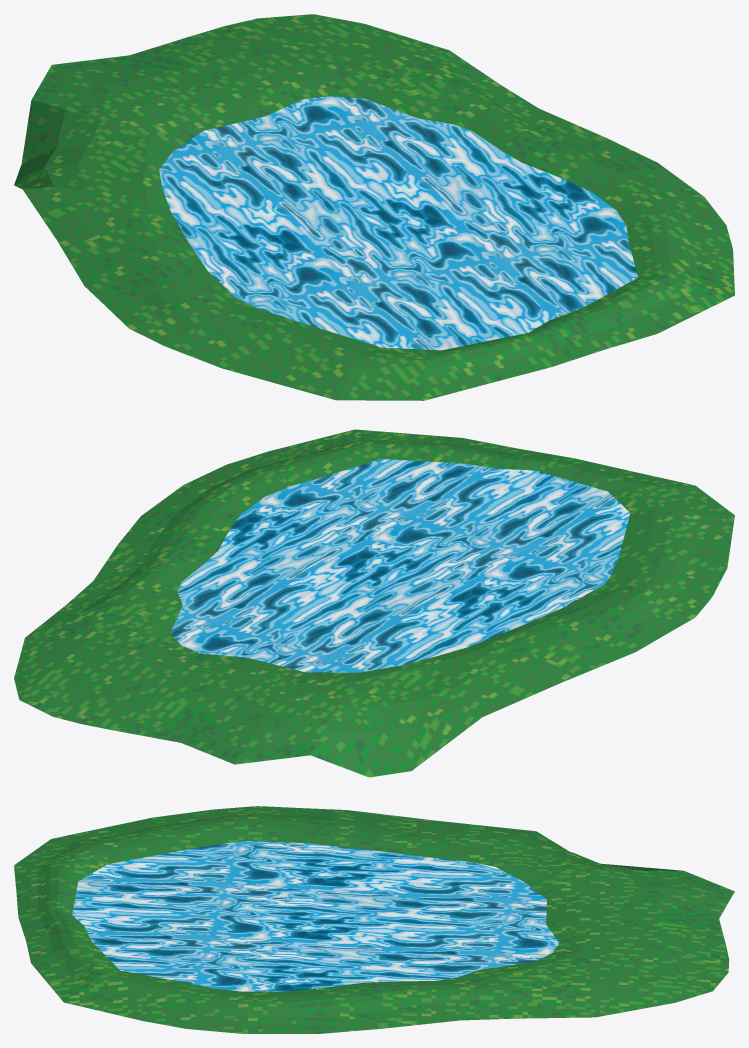
Rendered from Pond2.fbx.
The picture shows the model from 3 angles, top to bottom: view 1: azimuth 30°, elevation 25°; view 2: azimuth 150°, elevation 25°; view 3: azimuth 270°, elevation 25°; orthographic projection. The views are drawn at different scales.
Visible parts, largest first — view 1: Plane.001, Plane; view 2: Plane.001, Plane; view 3: Plane.001, Plane.
Boxes of the visible parts, box(x1,y1,x2,y2) form: Plane.001: box(14, 14, 734, 400); Plane: box(159, 96, 637, 350); Plane.001: box(14, 429, 734, 777); Plane: box(170, 459, 630, 672); Plane.001: box(14, 806, 734, 1033); Plane: box(72, 840, 559, 991).
Bounding box in the file's own units: 290 × 23.76 × 387.
